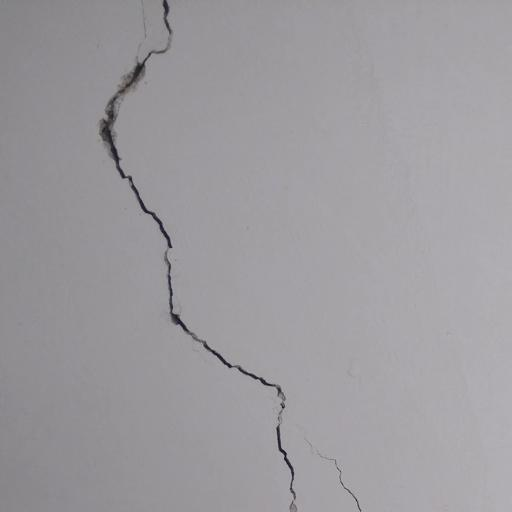major_crack: (90, 0, 311, 512), (304, 428, 373, 512)
